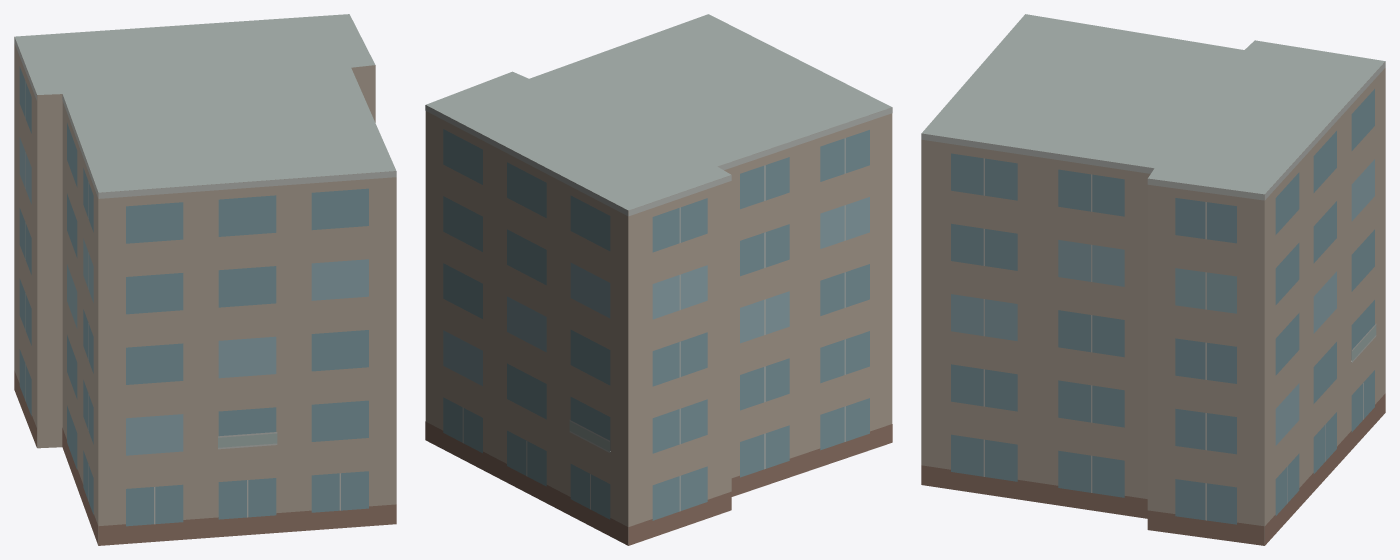
The model's file is survey-upis-32891713.glb.
The picture shows the model from 3 angles, left to right: view 1: azimuth 30°, elevation 25°; view 2: azimuth 150°, elevation 25°; view 3: azimuth 270°, elevation 25°; orthographic projection. The views are drawn at different scales.
Parts seen in each view (by area): view 1: survey-upis-32891713.tmp; view 2: survey-upis-32891713.tmp; view 3: survey-upis-32891713.tmp.
Boxes of the visible parts, left/top/right/bottom form: survey-upis-32891713.tmp: left=14, top=14, right=396, bottom=545; survey-upis-32891713.tmp: left=425, top=14, right=892, bottom=545; survey-upis-32891713.tmp: left=921, top=14, right=1385, bottom=545.
Size of the model in its own units: 15.2 by 13.8 by 16.53.
